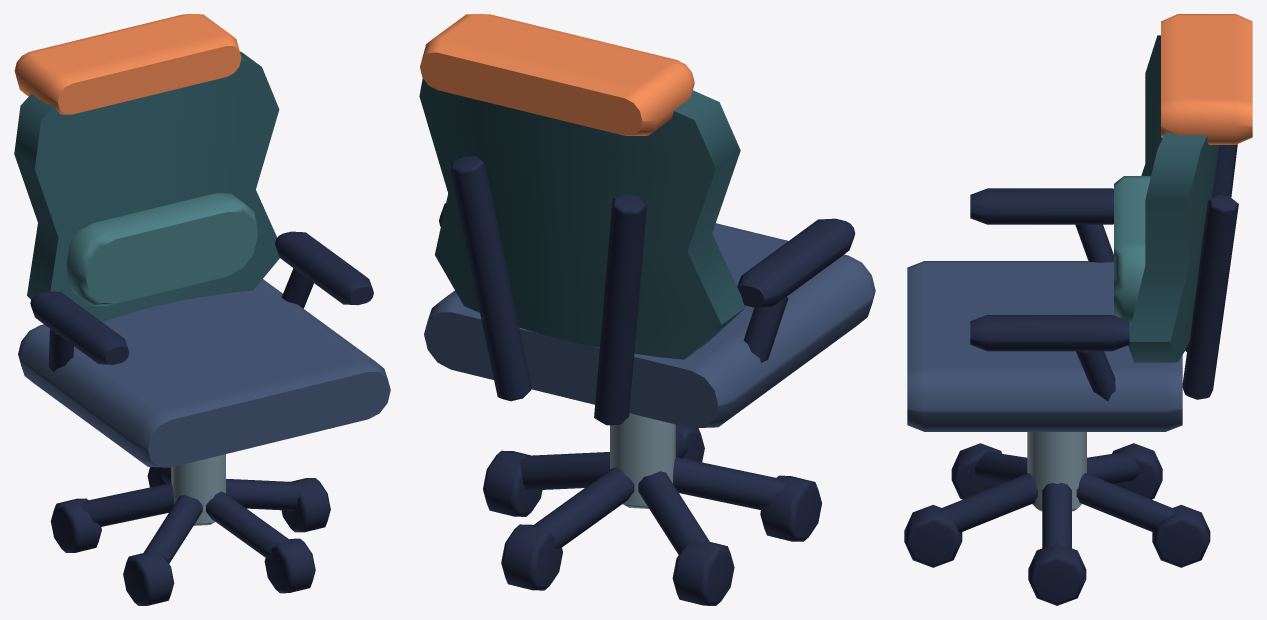
Rendered from chair.glb.
3 renders of one model, left to right at view 1: azimuth 30°, elevation 25°; view 2: azimuth 150°, elevation 25°; view 3: azimuth 270°, elevation 25°, orthographic. The views are drawn at different scales.
Parts seen in each view (by area): view 1: chair; view 2: chair; view 3: chair.
Boxes of the visible parts, bbox=[...] form: chair: bbox=[14, 14, 390, 605]; chair: bbox=[419, 14, 875, 605]; chair: bbox=[904, 14, 1252, 605].
Bounding box in the file's own units: 0.705 × 1.12 × 0.7218.
